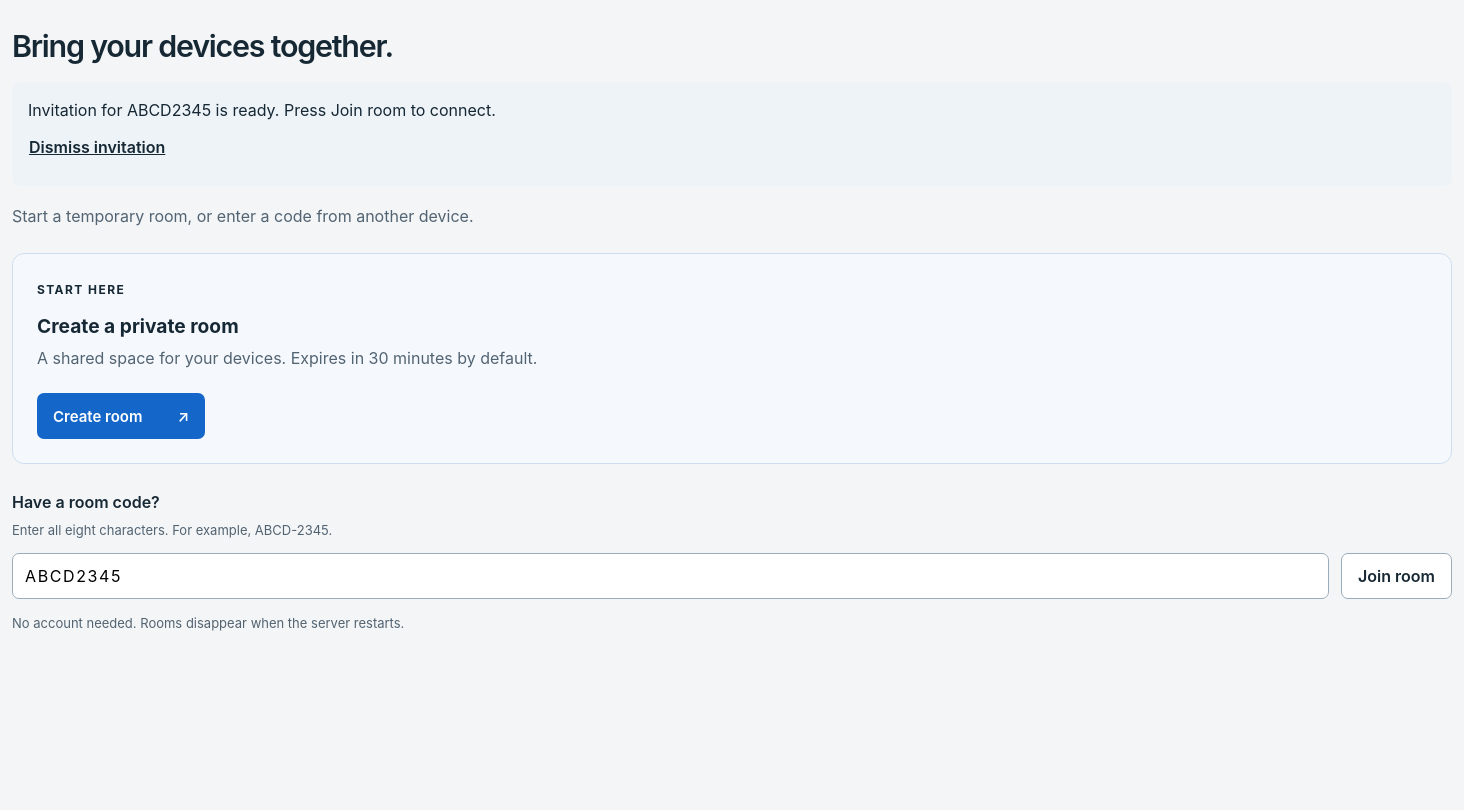
expired invitation gives a recoverable error
Click the button "Join room": (1397, 576) [1341,553,1452,599]
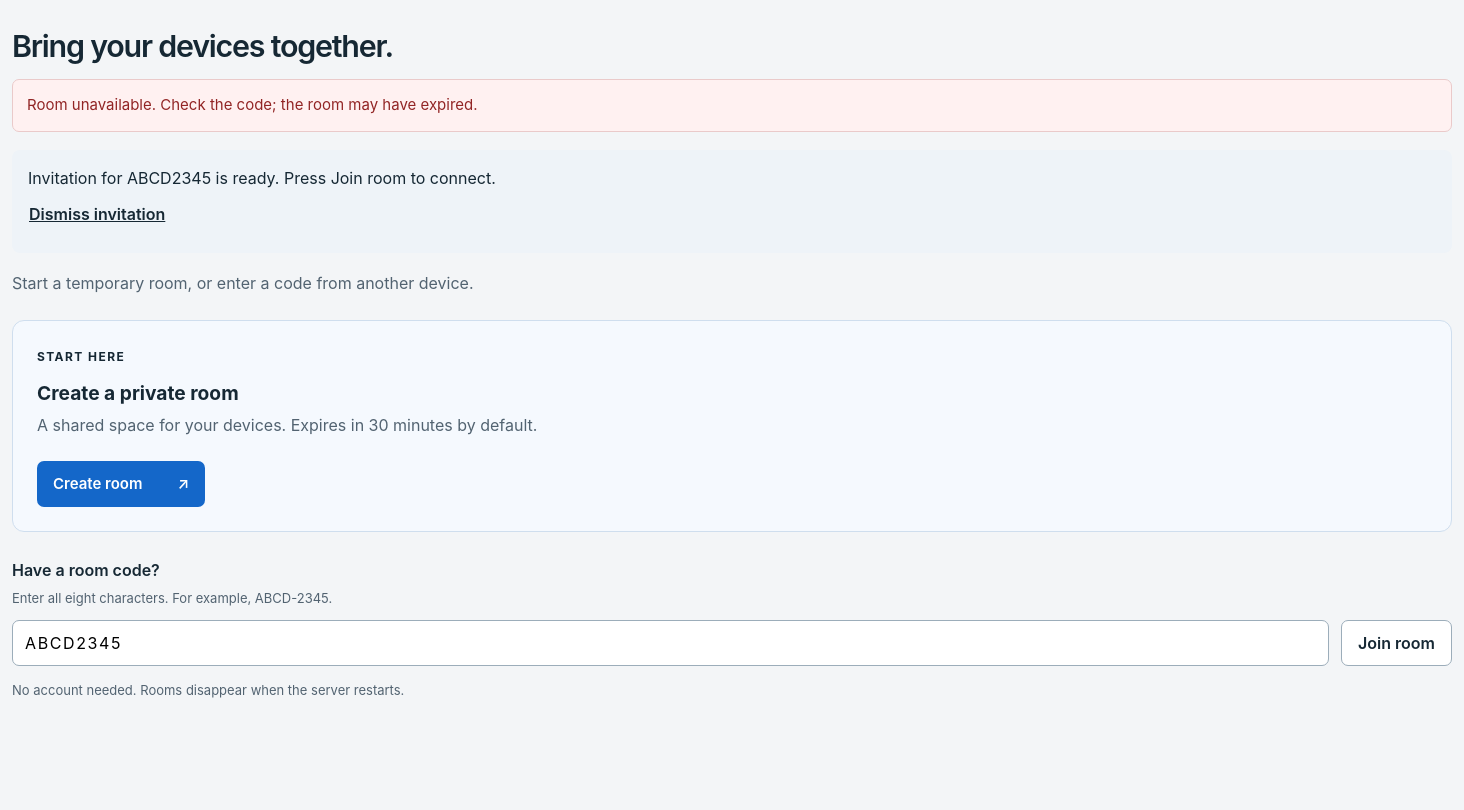
Expected: the field labelled "Have a room code?" holds "ABCD2345", [12,620,1329,666]
Now the message "Room unavailable. Check the code; the room may have expired." is shown, box [12,79,1452,132]
